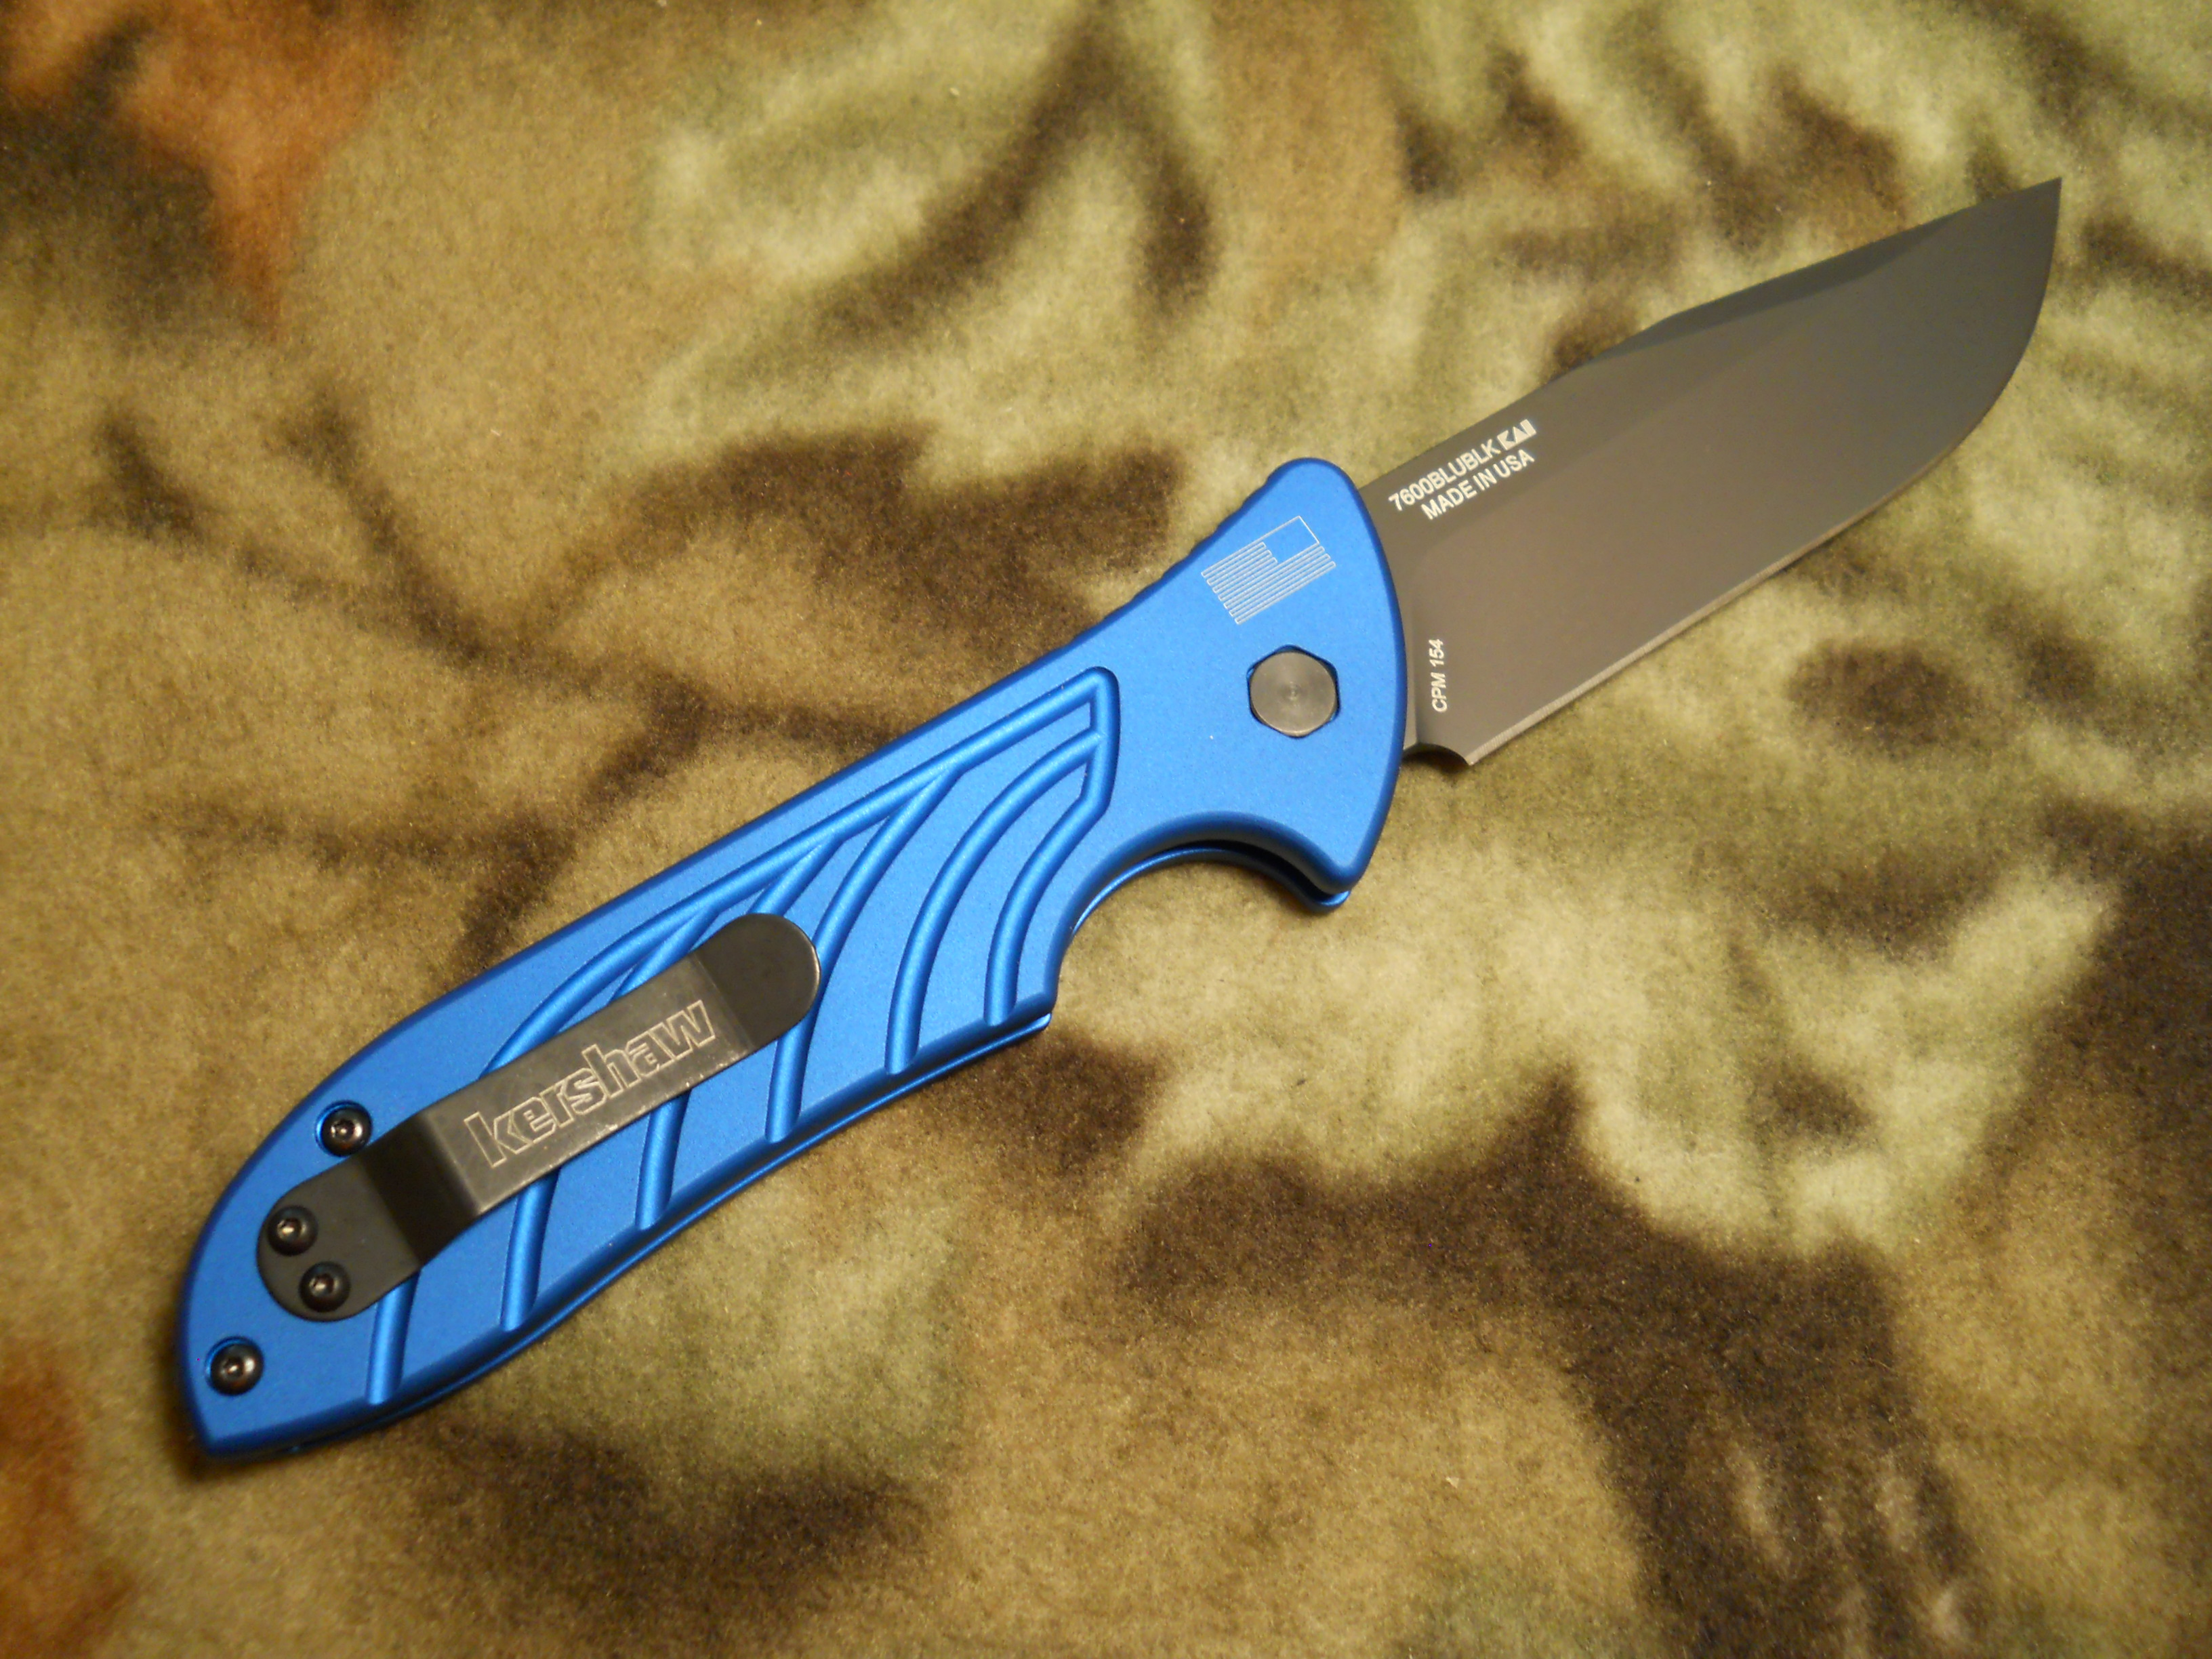knife: (1244, 155, 2080, 829)
